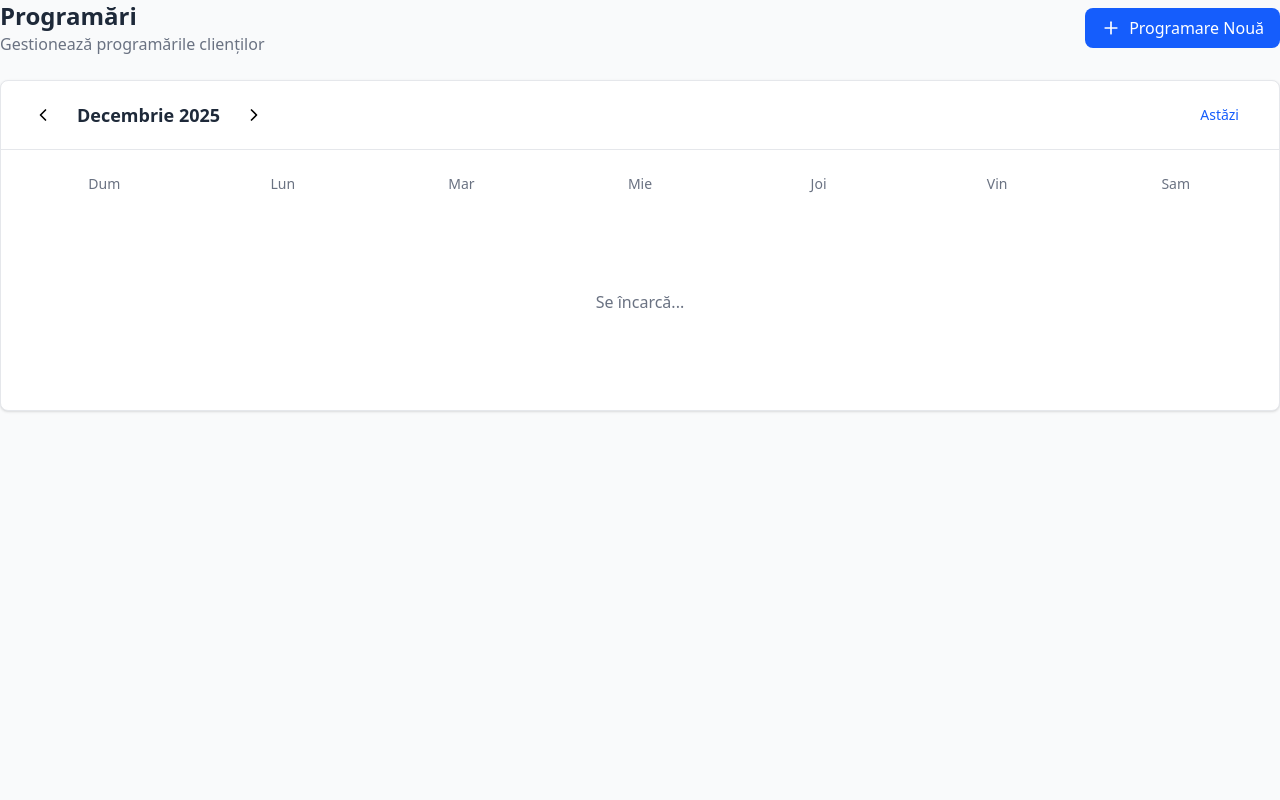
Scenario: AppointmentsPage › has cancel button in modal
Click the button "Programare Nouă": coordinates (1183, 28) x1=1085 y1=8 x2=1279 y2=48
(page scrolled)
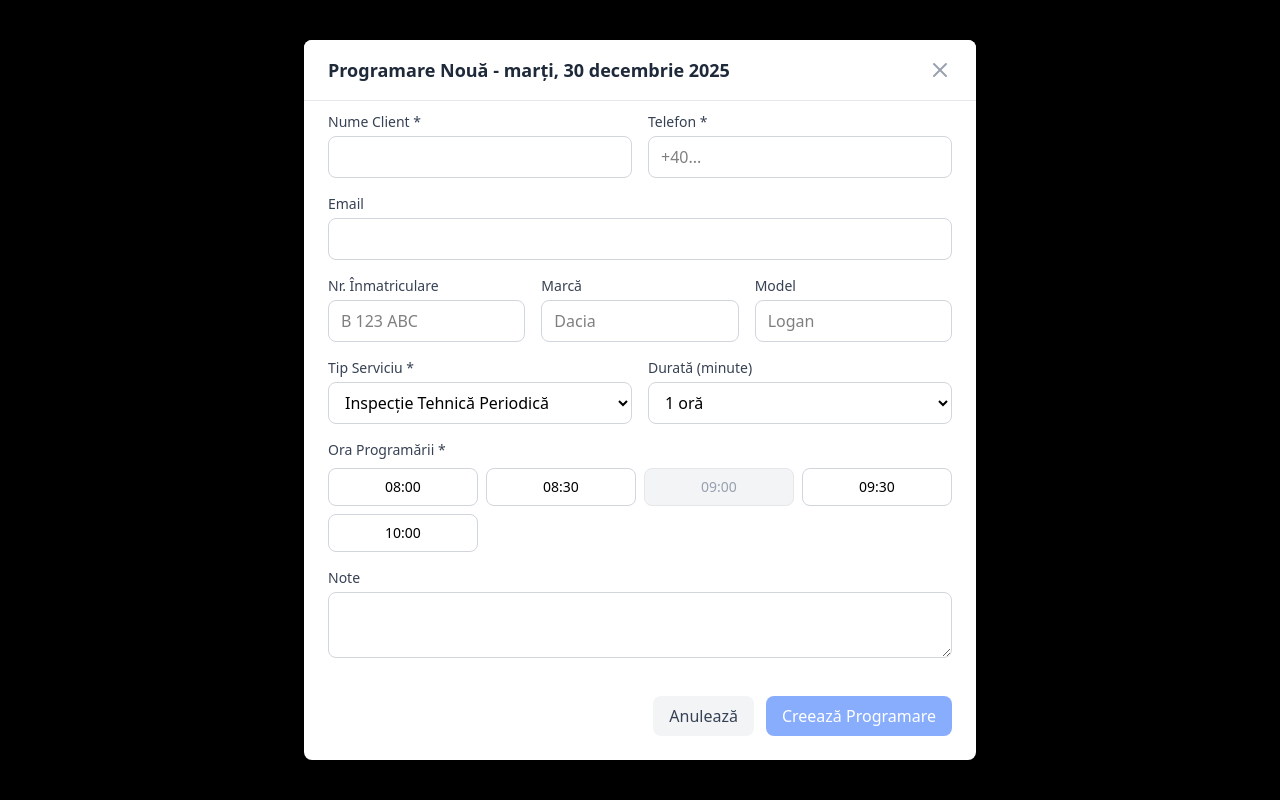
Check: the button "Anulează" is shown, box x1=653 y1=696 x2=754 y2=736
